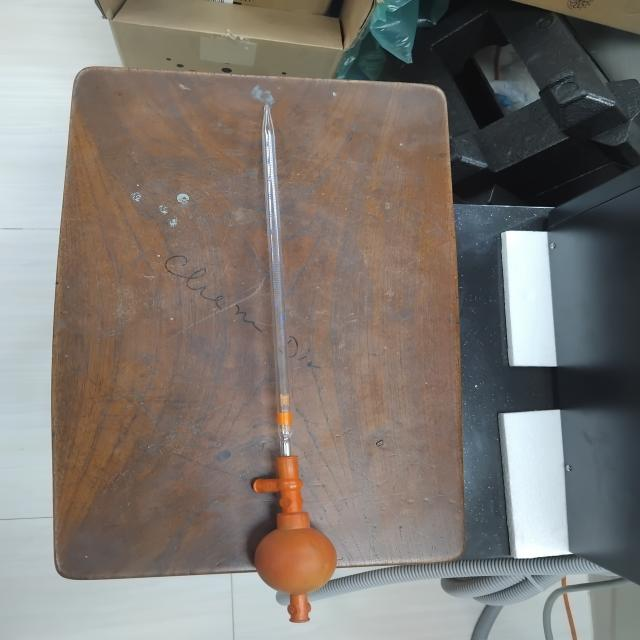Volumetric_Pipet: (198, 66, 377, 631)
